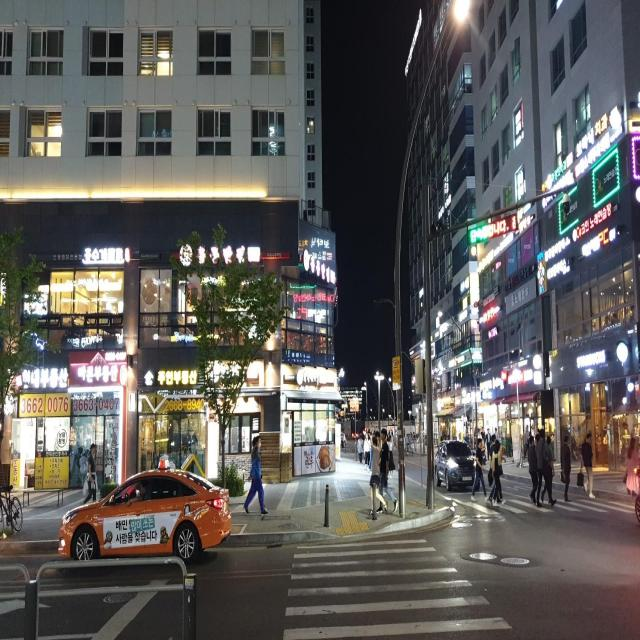횡단보도: (282, 537, 514, 639)
